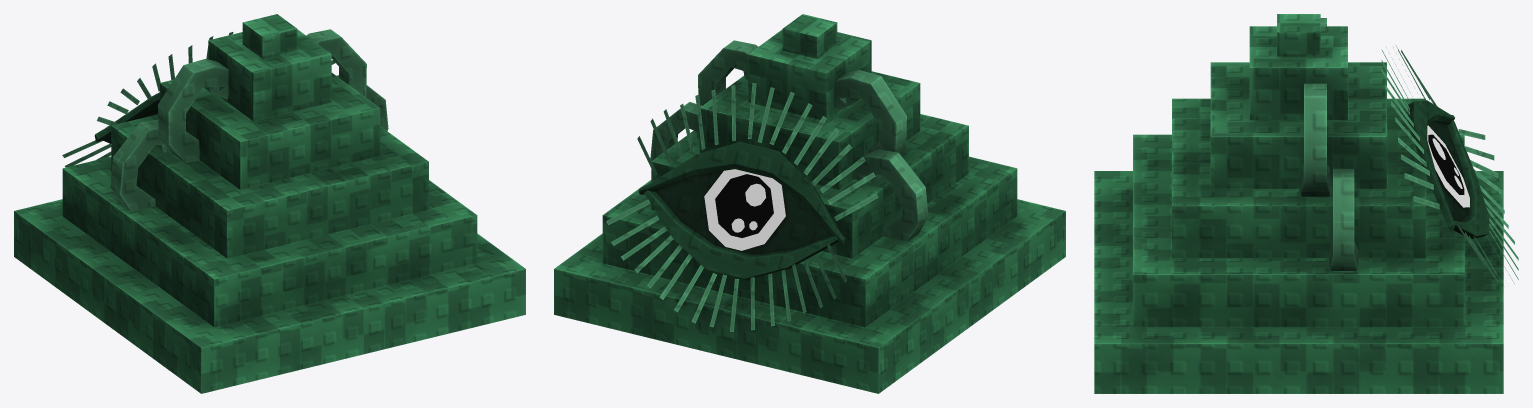
File: Illuminato Triangolo.fbx
3 views of the same model, side by side, from view 1: azimuth 30°, elevation 25°; view 2: azimuth 150°, elevation 25°; view 3: azimuth 270°, elevation 25° (orthographic). The views are drawn at different scales.
Visible parts, largest first — view 1: Illuminato Triangolo; view 2: Illuminato Triangolo; view 3: Illuminato Triangolo.
Boxes of the visible parts, bbox=[...] form: Illuminato Triangolo: bbox=[14, 14, 525, 393]; Illuminato Triangolo: bbox=[554, 14, 1065, 393]; Illuminato Triangolo: bbox=[1094, 14, 1518, 393].
Bounding box in the file's own units: 517 × 396 × 536.
